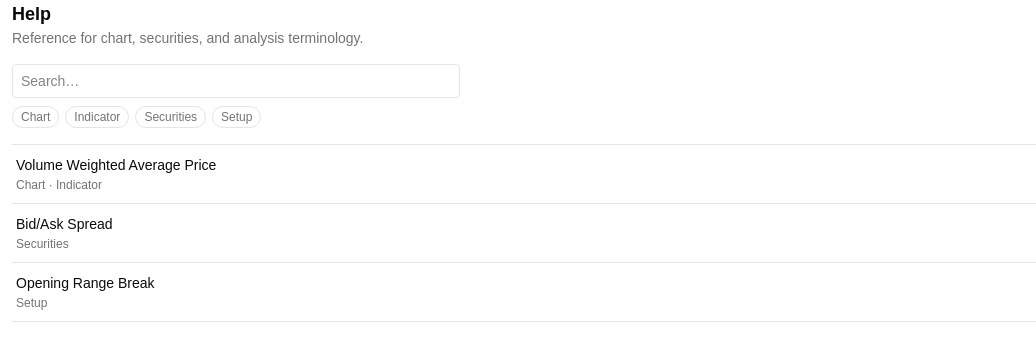
Help route — list › filters the list in-memory by title substring as the operator types
Check: the text "Volume Weighted Average Price" is shown, box left=16, top=157, right=216, bottom=173
In the search field named "search help": (236, 81) left=12, top=64, right=460, bottom=98, type "volume"
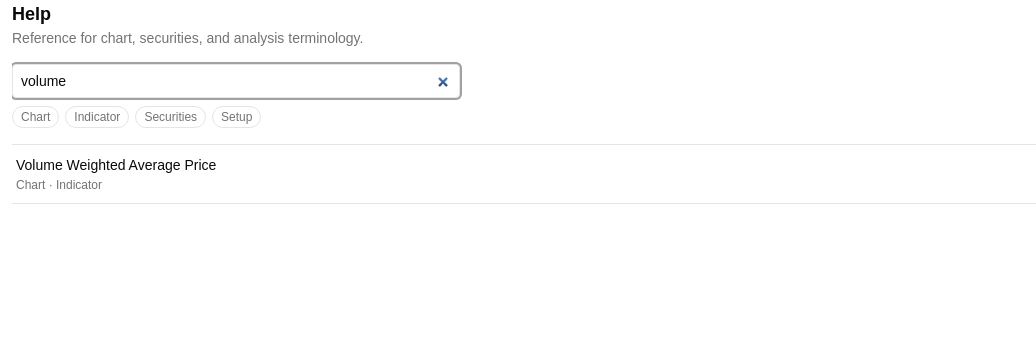
Check: the text "Volume Weighted Average Price" is shown, box left=16, top=157, right=216, bottom=173
Check: the link "Bid/Ask Spread" is gone
Check: the link "Opening Range Break" is gone
